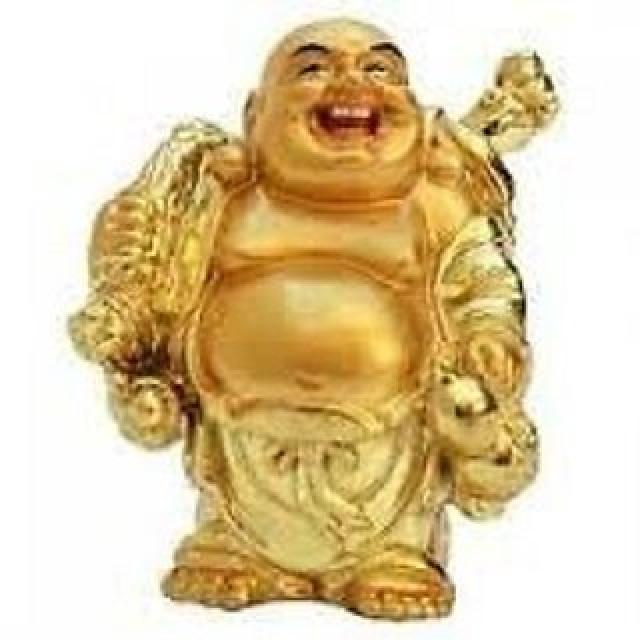Smiling Buddha: (142, 8, 504, 485)
